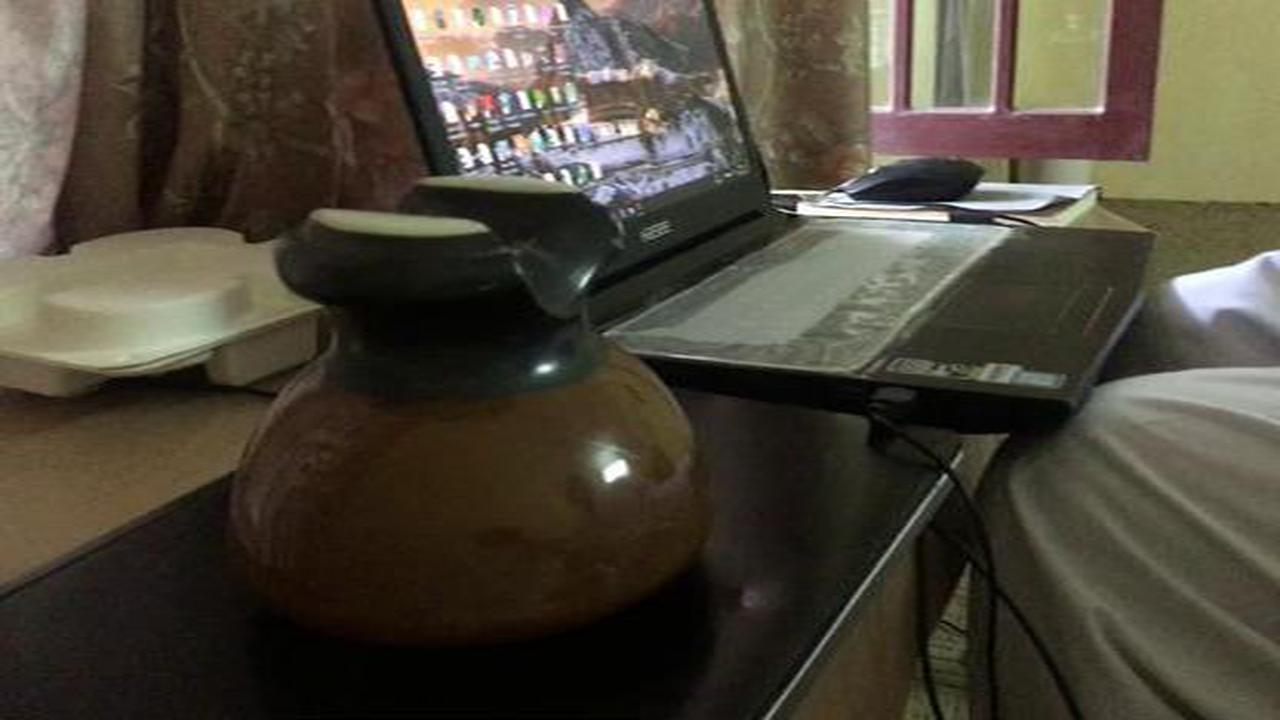insulator_pin: (204, 161, 736, 669)
